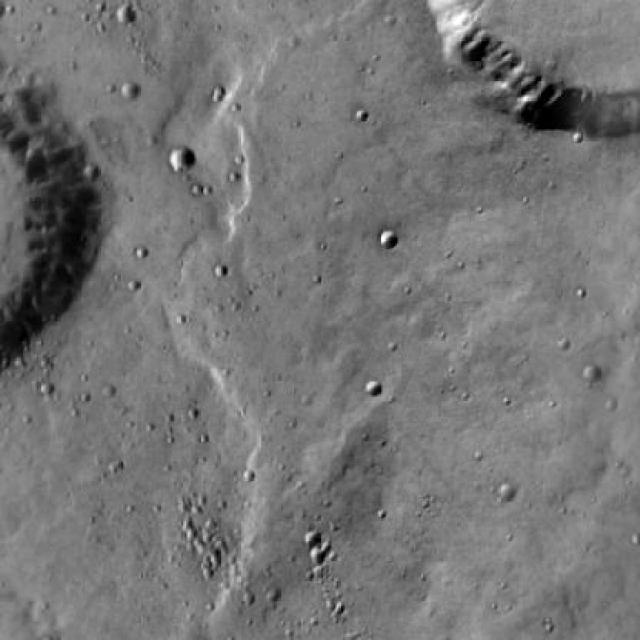crater: (427, 0, 640, 124), (0, 96, 91, 370), (170, 144, 195, 168), (116, 3, 136, 22), (379, 232, 399, 250), (118, 84, 138, 102), (495, 483, 513, 500)
